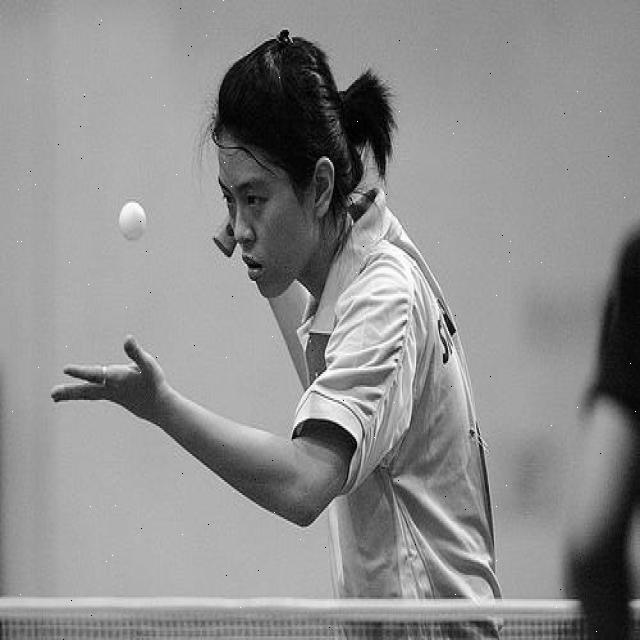ping-pong-ball: (116, 199, 148, 244)
